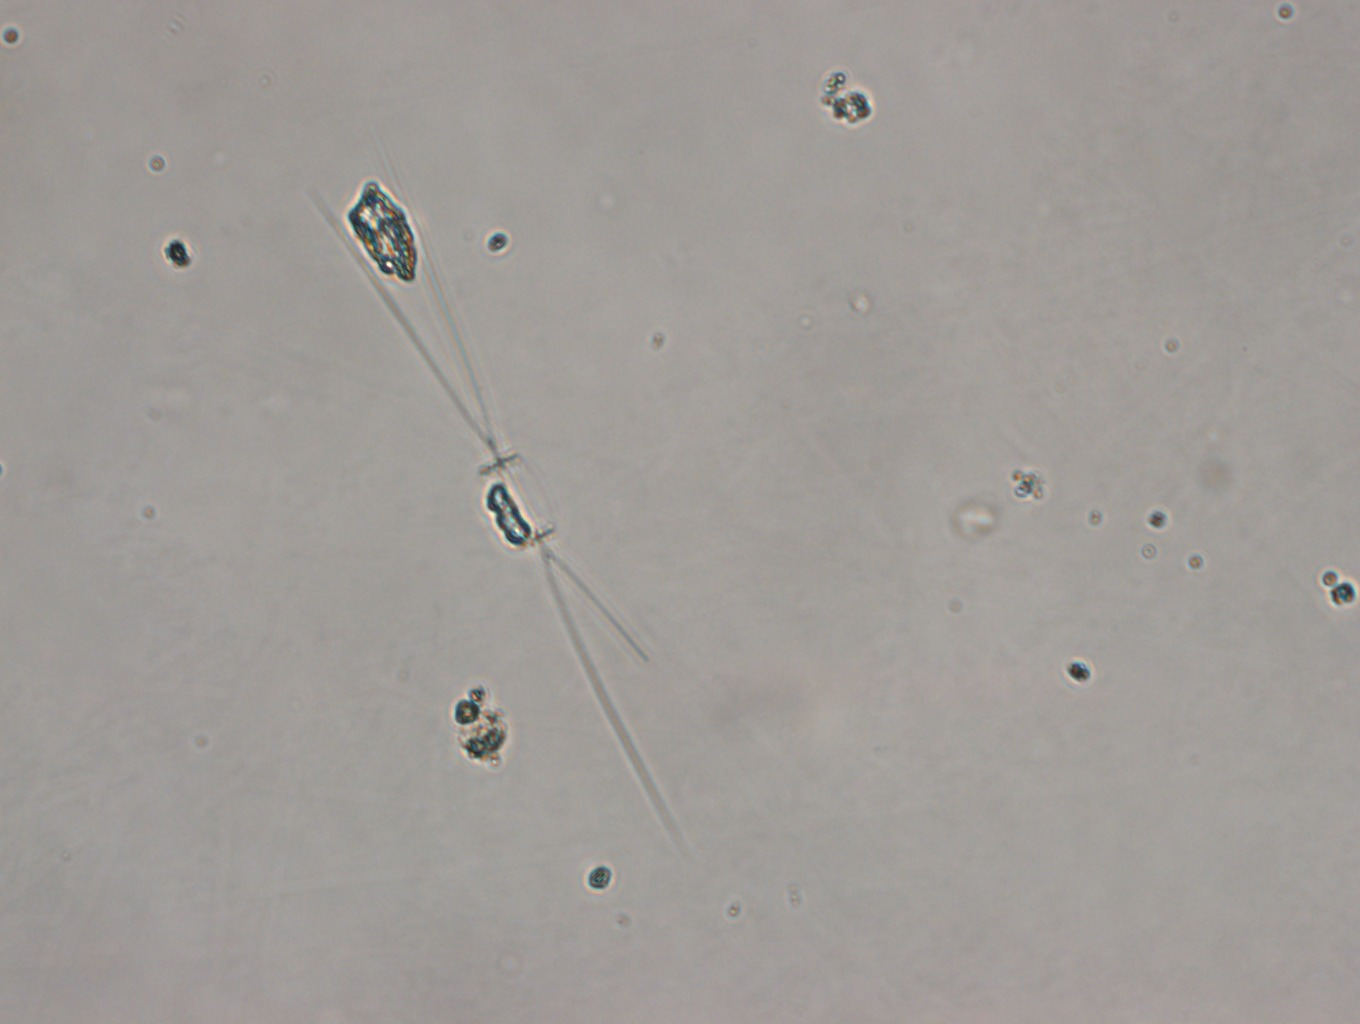chaetoceros: (318, 190, 686, 847)
